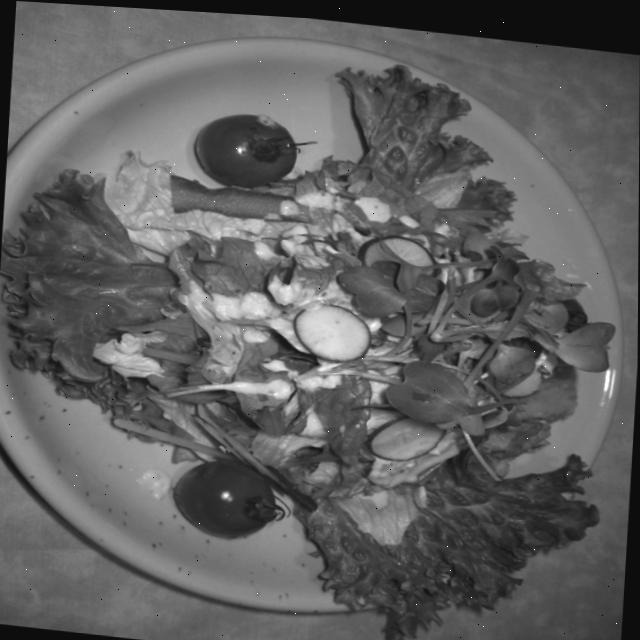蔬菜料理: (0, 3, 639, 640)
